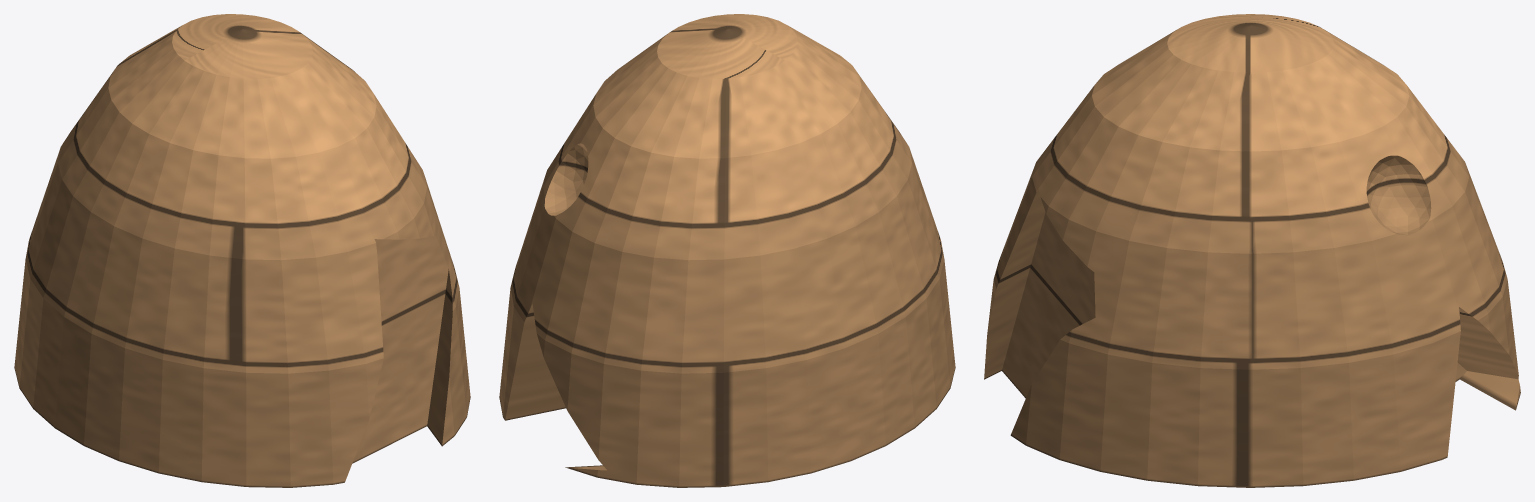
The picture shows the model from 3 angles, left to right: view 1: azimuth 30°, elevation 25°; view 2: azimuth 150°, elevation 25°; view 3: azimuth 270°, elevation 25°; orthographic projection. The views are drawn at different scales.
Visible parts, largest first — view 1: geometry_0; view 2: geometry_0; view 3: geometry_0.
Boxes of the visible parts, box(x1,y1,x2,y2) form: geometry_0: box(14, 14, 470, 487); geometry_0: box(499, 14, 955, 487); geometry_0: box(984, 14, 1520, 487).
Size of the model in its own units: 1.49 by 1.34 by 1.77.
Materials: 1 (1 with a texture image).
